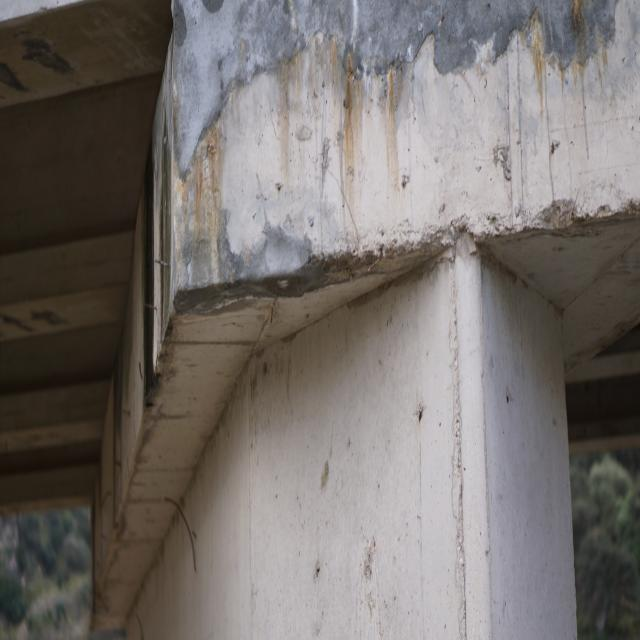corrosion: (158, 0, 640, 242), (415, 401, 429, 423), (504, 390, 514, 410)
